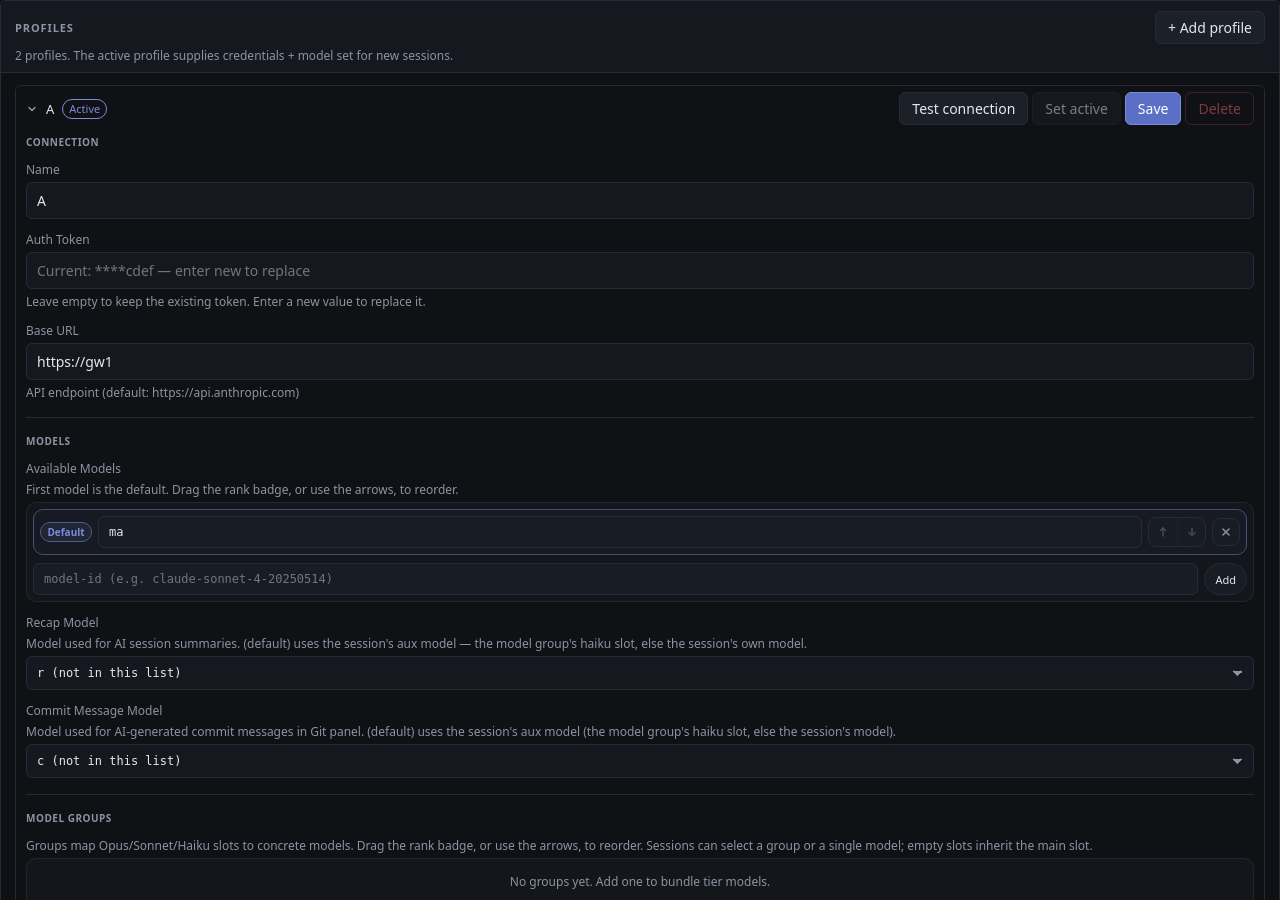
Test: ProfilesSettingsTab › add profile dialog › opens the template dialog on + Add profile, preselected to the active profile
Step 1. Click the button "+ Add profile" → (1210, 28), box [1155, 11, 1265, 44]
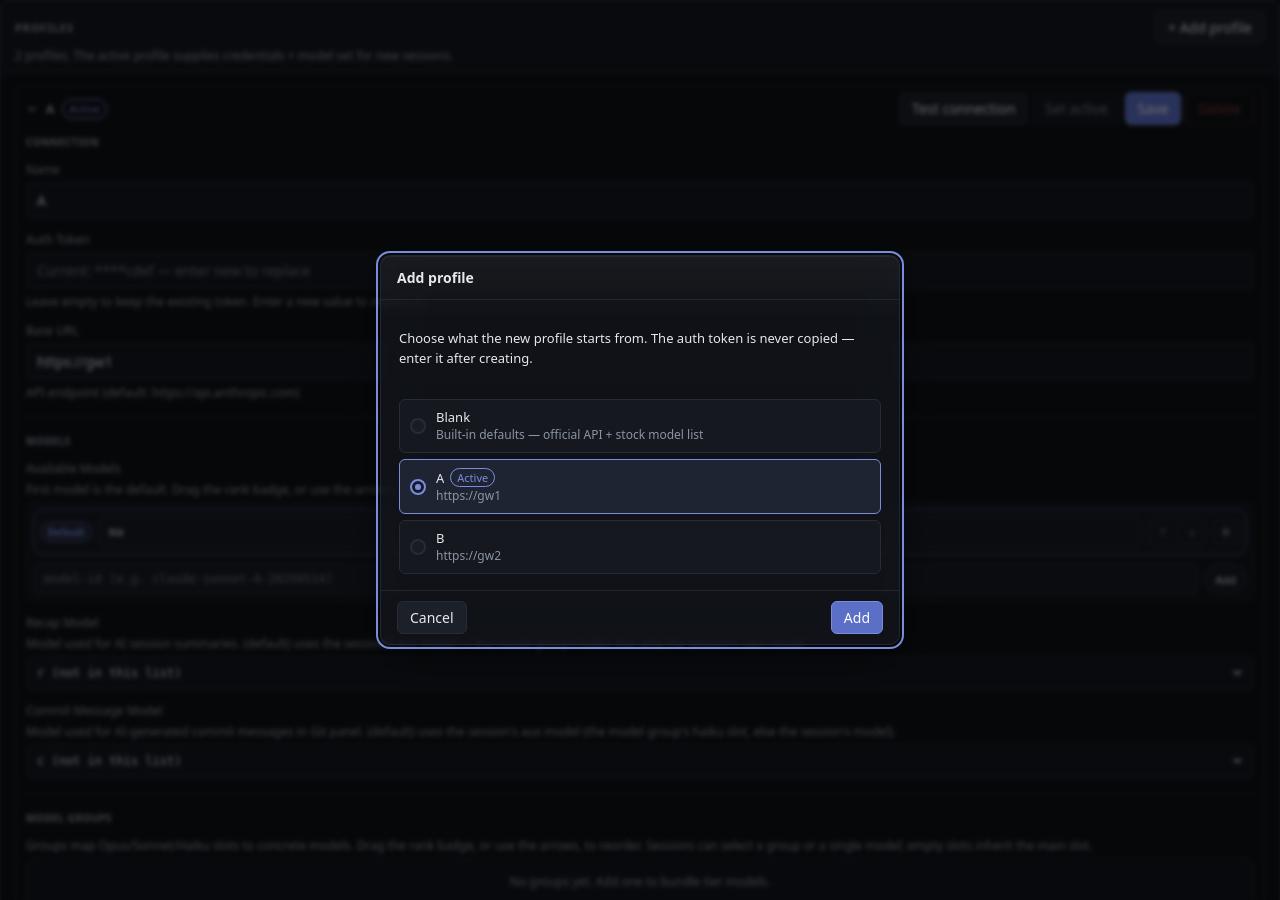
expect the radio button labelled "A Active https://gw1" is checked: met, box [410, 478, 426, 494]
